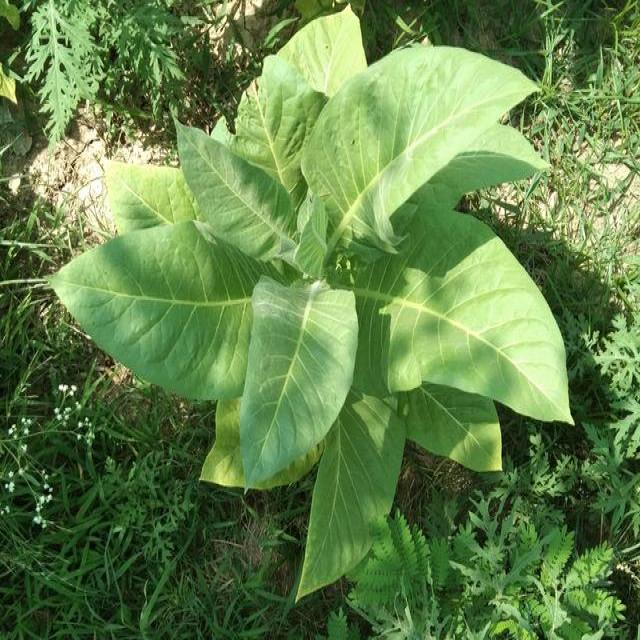crop: (78, 11, 581, 588)
